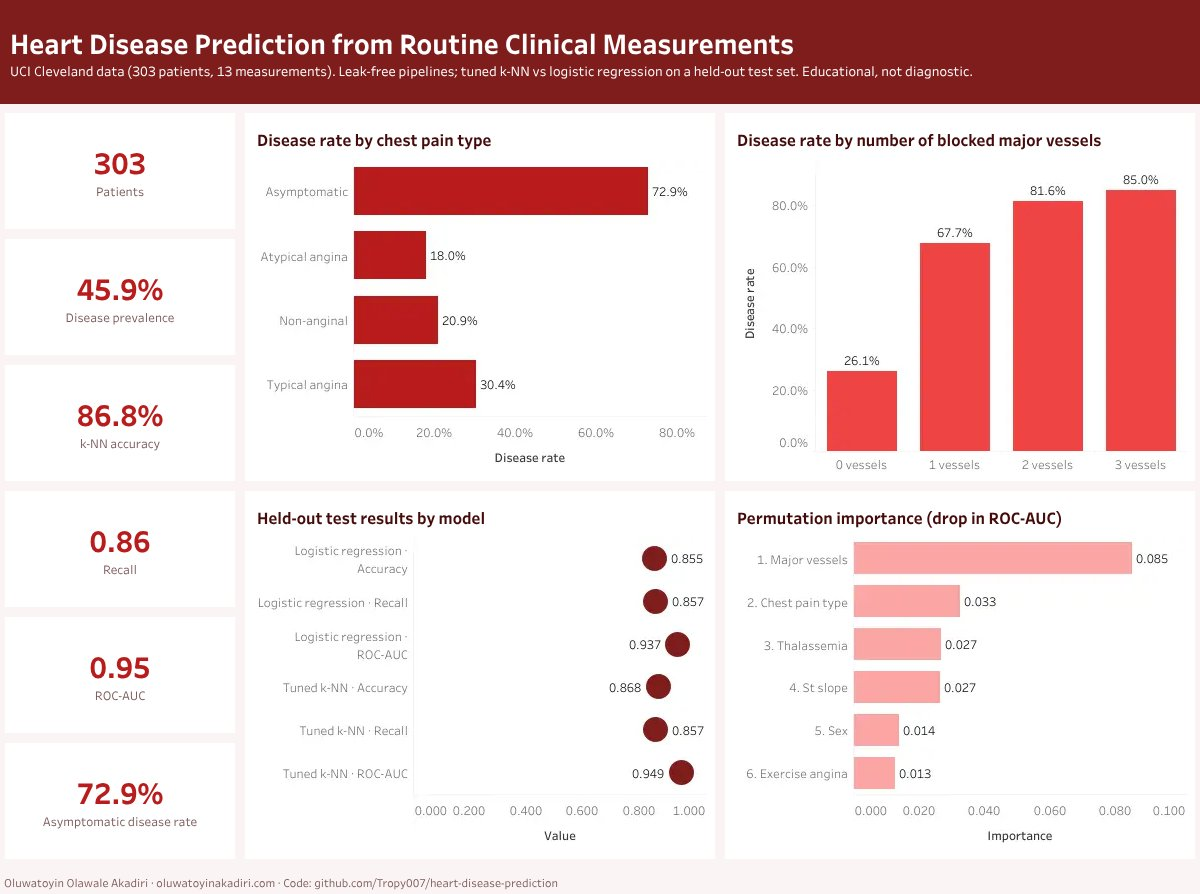

The dashboard page shown, as its layout file describes it:
{"tool":"tableau","page":{"name":"Heart Disease","canvas":[1200,900],"ordinal":0},"visuals":[{"type":"text","box":[0,0,1200,103.5]},{"type":"text","box":[0,108,240,126]},{"type":"worksheet","title":"By chest pain","mark":"Bar","rows":["Chest pain type"],"cols":["Disease rate"],"box":[240,108,480,378]},{"type":"worksheet","title":"By blocked vessels","mark":"Bar","rows":["Disease rate"],"cols":["Blocked major vessels"],"box":[720,108,480,378]},{"type":"text","box":[0,234,240,126]},{"type":"text","box":[0,360,240,126]},{"type":"text","box":[0,486,240,126]},{"type":"worksheet","title":"Model results","mark":"Circle","rows":["Group"],"cols":["Value"],"box":[240,486,480,378]},{"type":"worksheet","title":"Importance","mark":"Bar","rows":["Feature"],"cols":["Importance"],"box":[720,486,480,378]},{"type":"text","box":[0,612,240,126]},{"type":"text","box":[0,738,240,126]},{"type":"text","box":[0,864,1200,36]}]}

Visuals, with their boxes in screenshot pixels (x1, y1, x2, y2), scaled from the page's 1200x900 canvas onto the 1200x894 screenshot:
text: bbox=(0, 0, 1199, 103)
text: bbox=(0, 107, 240, 232)
"By chest pain" worksheet (Bar marks): bbox=(240, 107, 720, 483)
"By blocked vessels" worksheet (Bar marks): bbox=(720, 107, 1199, 483)
text: bbox=(0, 232, 240, 358)
text: bbox=(0, 358, 240, 483)
text: bbox=(0, 483, 240, 608)
"Model results" worksheet (Circle marks): bbox=(240, 483, 720, 858)
"Importance" worksheet (Bar marks): bbox=(720, 483, 1199, 858)
text: bbox=(0, 608, 240, 733)
text: bbox=(0, 733, 240, 858)
text: bbox=(0, 858, 1199, 893)
